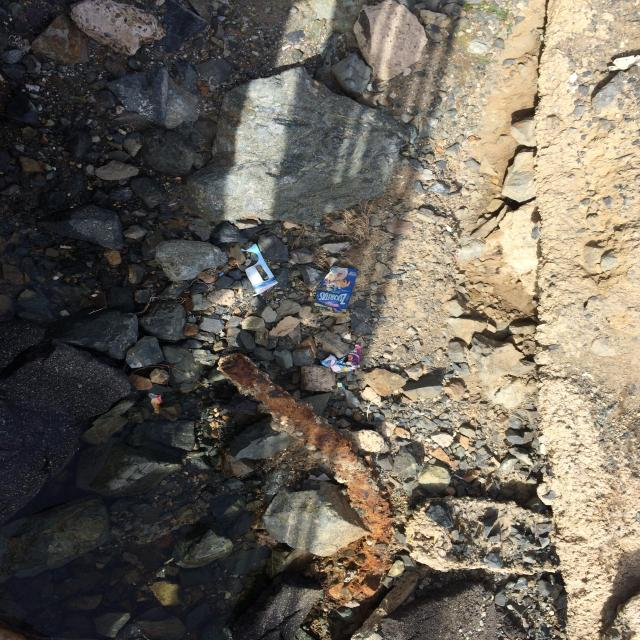litter: (315, 267, 359, 317), (241, 243, 279, 297), (321, 355, 360, 373), (610, 55, 639, 70), (347, 344, 362, 365), (148, 394, 163, 413)
